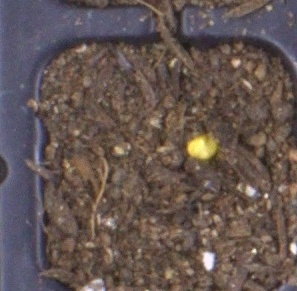chilli seed: (186, 134, 218, 160)
